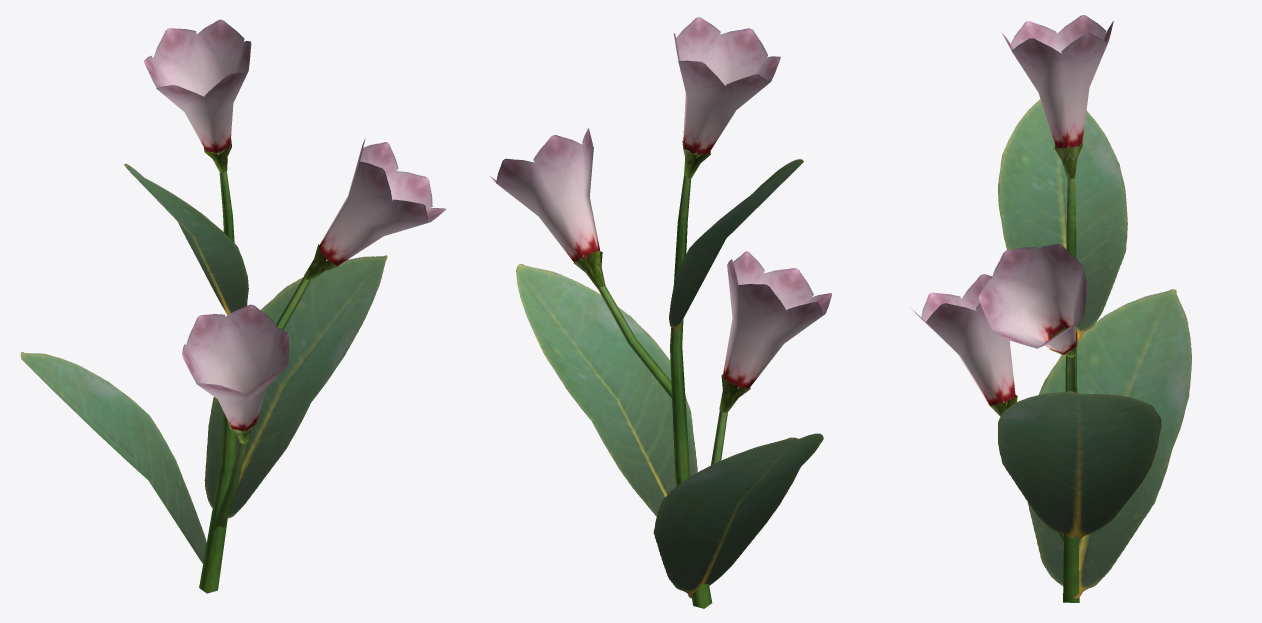
The model's file is bellf1.fbx.
3 views of the same model, side by side, from view 1: azimuth 30°, elevation 25°; view 2: azimuth 150°, elevation 25°; view 3: azimuth 270°, elevation 25° (orthographic). The views are drawn at different scales.
Parts seen in each view (by area): view 1: bellflower01; view 2: bellflower01; view 3: bellflower01.
Part boxes in pixels (x1,y1,x2,y2): bellflower01: (20, 19, 446, 593); bellflower01: (490, 17, 831, 608); bellflower01: (911, 15, 1191, 602).
Size of the model in its own units: 31.01 by 42.17 by 22.52.
